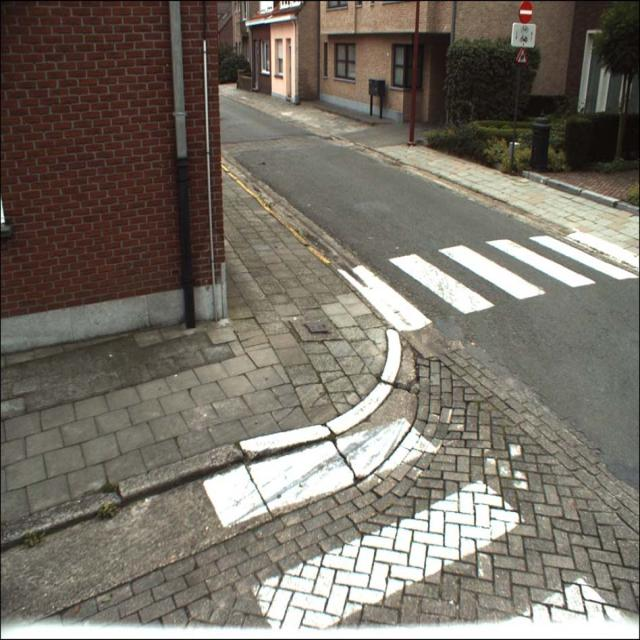girisyok: (518, 3, 532, 23)
